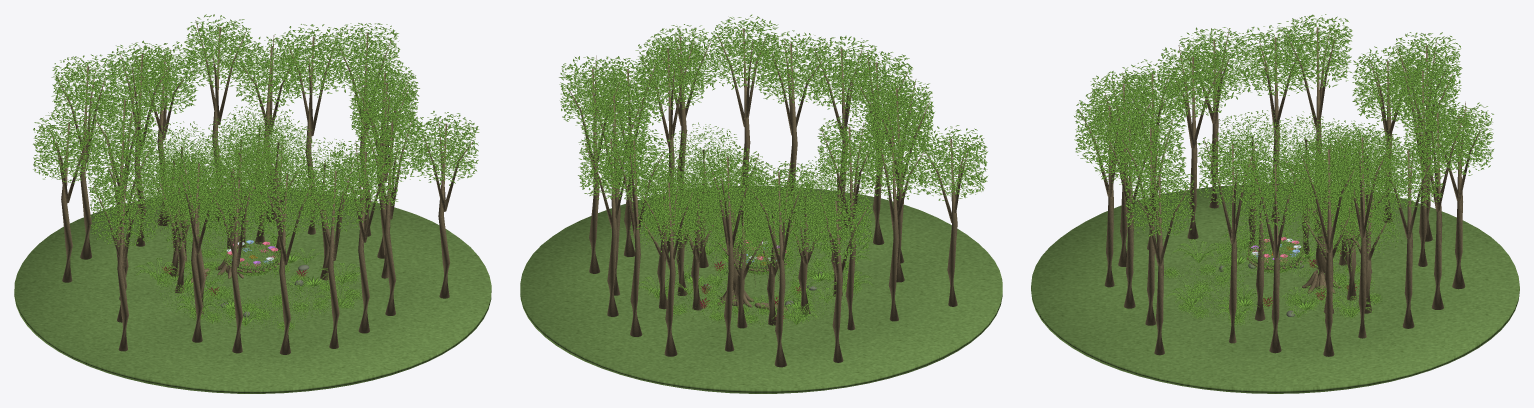
The model's file is R10_support-diagnostic_material.glb.
The picture shows the model from 3 angles, left to right: view 1: azimuth 30°, elevation 25°; view 2: azimuth 150°, elevation 25°; view 3: azimuth 270°, elevation 25°; orthographic projection. The views are drawn at different scales.
Parts seen in each view (by area): view 1: TERRAIN_finite_working_domain, FAR_TREE_11_crown, FAR_TREE_14_crown, FAR_TREE_04_crown, FAR_TREE_15_crown, FAR_TREE_02_crown, FAR_TREE_08_crown, FAR_TREE_12_crown, FAR_TREE_13_crown, FAR_TREE_18_crown, FAR_TREE_07_crown, FAR_TREE_17_crown (+38 smaller); view 2: TERRAIN_finite_working_domain, FAR_TREE_07_crown, FAR_TREE_05_crown, FAR_TREE_09_crown, FAR_TREE_11_crown, FAR_TREE_08_crown, FAR_TREE_17_crown, FAR_TREE_04_crown, FAR_TREE_16_crown, FAR_TREE_19_crown, FAR_TREE_06_crown, FAR_TREE_10_crown (+44 smaller); view 3: TERRAIN_finite_working_domain, FAR_TREE_09_crown, FAR_TREE_18_crown, FAR_TREE_01_crown, FAR_TREE_17_crown, FAR_TREE_00_crown, FAR_TREE_19_crown, FAR_TREE_12_crown, FAR_TREE_04_crown, FAR_TREE_03_crown, FAR_TREE_06_crown, FAR_TREE_10_crown (+41 smaller).
Boxes of the visible parts, <box> form: TERRAIN_finite_working_domain: <box>14,187,491,393</box>; FAR_TREE_11_crown: <box>89,173,157,246</box>; FAR_TREE_14_crown: <box>251,163,319,236</box>; FAR_TREE_04_crown: <box>183,14,252,89</box>; FAR_TREE_15_crown: <box>299,158,368,231</box>; FAR_TREE_02_crown: <box>277,24,345,98</box>; FAR_TREE_08_crown: <box>33,111,100,183</box>; FAR_TREE_12_crown: <box>162,150,231,224</box>; FAR_TREE_13_crown: <box>203,167,271,241</box>; FAR_TREE_18_crown: <box>411,111,479,185</box>; FAR_TREE_07_crown: <box>51,54,119,125</box>; FAR_TREE_17_crown: <box>355,109,424,182</box>; TERRAIN_finite_working_domain: <box>520,185,1002,393</box>; FAR_TREE_07_crown: <box>745,161,815,234</box>; FAR_TREE_05_crown: <box>636,170,705,245</box>; FAR_TREE_09_crown: <box>817,114,885,187</box>; FAR_TREE_11_crown: <box>918,125,987,200</box>; FAR_TREE_08_crown: <box>803,187,873,263</box>; FAR_TREE_17_crown: <box>710,14,779,89</box>; FAR_TREE_04_crown: <box>601,129,670,202</box>; FAR_TREE_16_crown: <box>758,30,827,105</box>; FAR_TREE_19_crown: <box>635,37,705,111</box>; FAR_TREE_06_crown: <box>695,144,763,218</box>; FAR_TREE_10_crown: <box>859,123,929,200</box>; TERRAIN_finite_working_domain: <box>1031,183,1519,393</box>; FAR_TREE_09_crown: <box>1282,14,1352,88</box>; FAR_TREE_18_crown: <box>1124,165,1194,238</box>; FAR_TREE_01_crown: <box>1293,134,1363,211</box>; FAR_TREE_17_crown: <box>1115,115,1186,188</box>; FAR_TREE_00_crown: <box>1240,152,1310,225</box>; FAR_TREE_19_crown: <box>1197,130,1267,205</box>; FAR_TREE_12_crown: <box>1157,43,1228,117</box>; FAR_TREE_04_crown: <box>1403,99,1473,173</box>; FAR_TREE_03_crown: <box>1374,137,1443,209</box>; FAR_TREE_06_crown: <box>1387,56,1458,131</box>; FAR_TREE_10_crown: <box>1240,23,1310,96</box>.
Size of the model in its own units: 64 by 30.76 by 64.
Materials: 10 (3 with a texture image).
